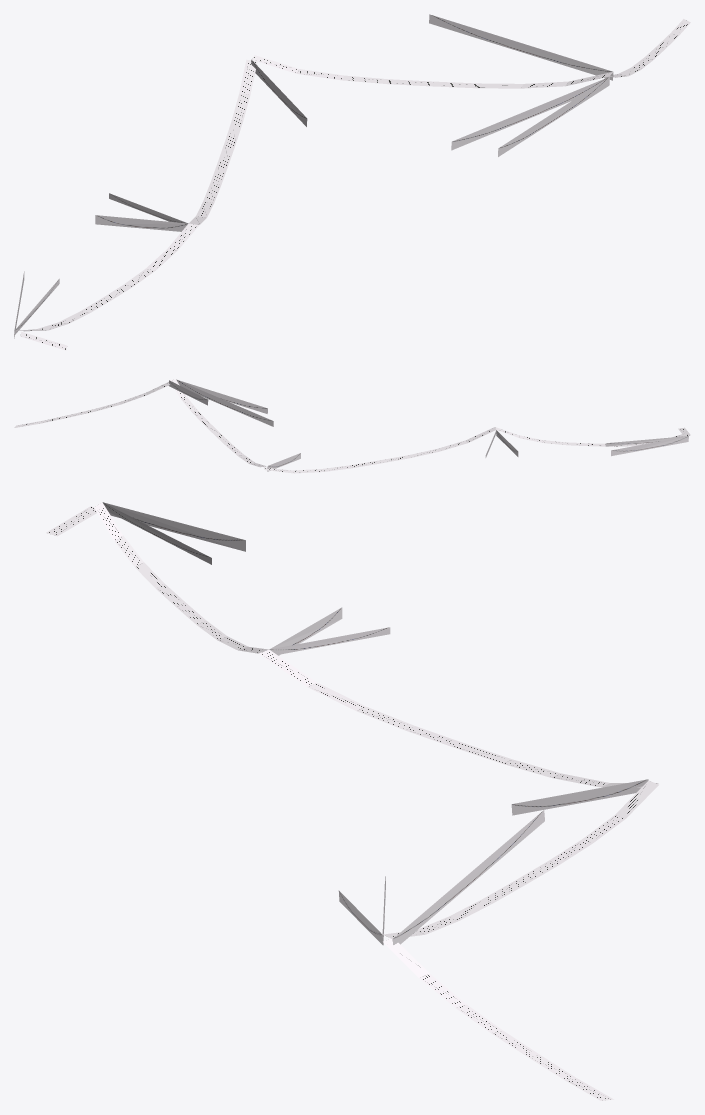
File: wires_11_sfs.obj
3 renders of one model, top to bottom at view 1: azimuth 30°, elevation 25°; view 2: azimuth 150°, elevation 25°; view 3: azimuth 270°, elevation 25°, orthographic. The views are drawn at different scales.
Parts seen in each view (by area): view 1: wires_11_SFS; view 2: wires_11_SFS; view 3: wires_11_SFS.
Boxes of the visible parts, x1=… form: wires_11_SFS: x1=14, y1=14, x2=690, y2=350; wires_11_SFS: x1=14, y1=379, x2=690, y2=473; wires_11_SFS: x1=46, y1=502, x2=658, y2=1100.
Bounding box in the file's own units: 147 × 15.1 × 71.36.
Materials: 2 (2 with a texture image).
